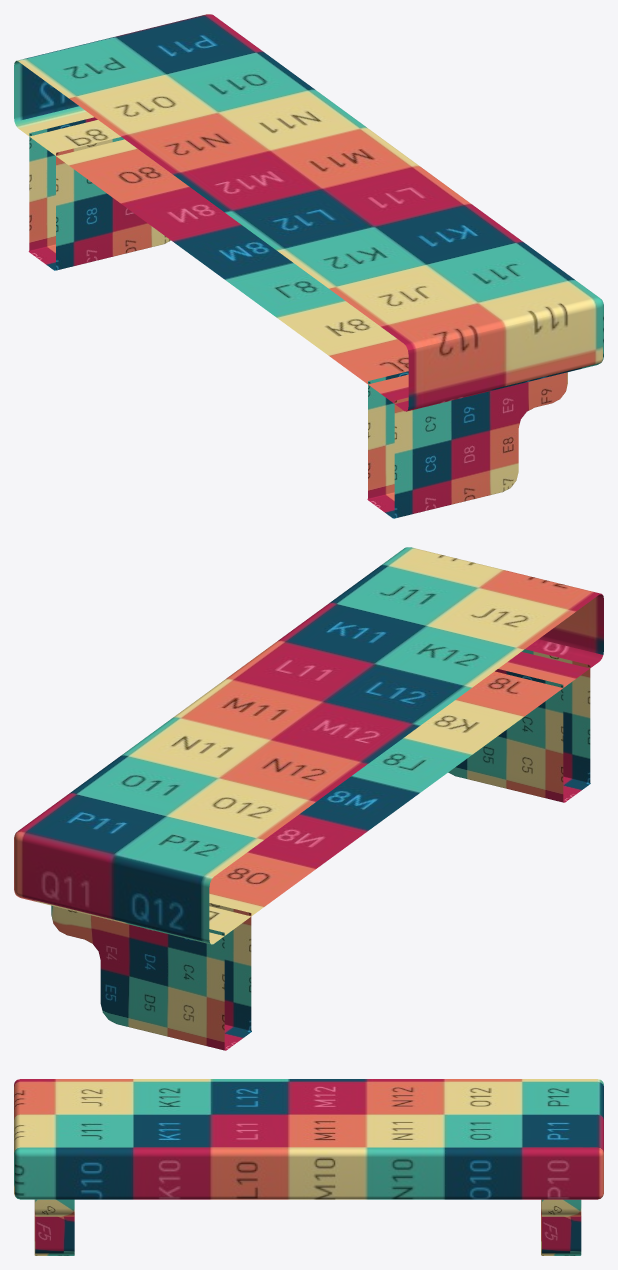
File: hanging_shelf.fbx
The picture shows the model from 3 angles, top to bottom: view 1: azimuth 30°, elevation 25°; view 2: azimuth 150°, elevation 25°; view 3: azimuth 270°, elevation 25°; orthographic projection. The views are drawn at different scales.
Parts seen in each view (by area): view 1: hanging_shelf1; view 2: hanging_shelf1; view 3: hanging_shelf1.
Part boxes in pixels (bbox=[...]): hanging_shelf1: bbox=[14, 14, 603, 518]; hanging_shelf1: bbox=[14, 547, 603, 1050]; hanging_shelf1: bbox=[14, 1079, 603, 1255].
Bounding box in the file's own units: 19.2 × 16.75 × 65.8.
